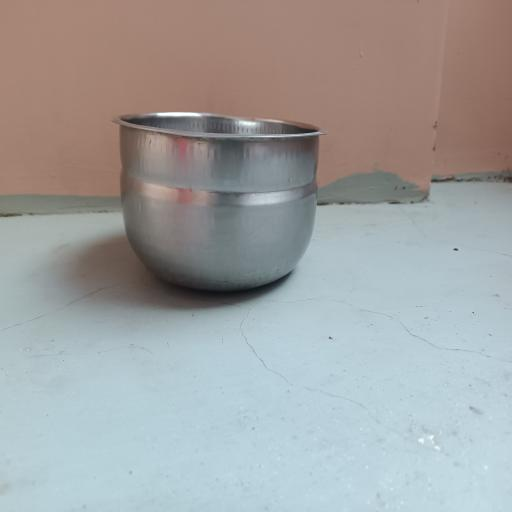vessel: (114, 112, 324, 290)
